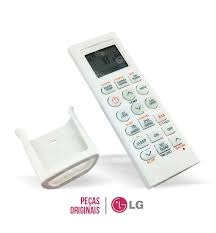remote control: (60, 24, 206, 191)
